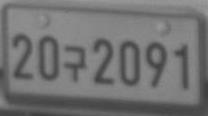0: (37, 35, 60, 80), (119, 39, 140, 86)
1: (171, 43, 194, 90)
2: (93, 37, 115, 84), (12, 32, 33, 79)
9: (145, 41, 167, 87)
구: (63, 45, 87, 82)
